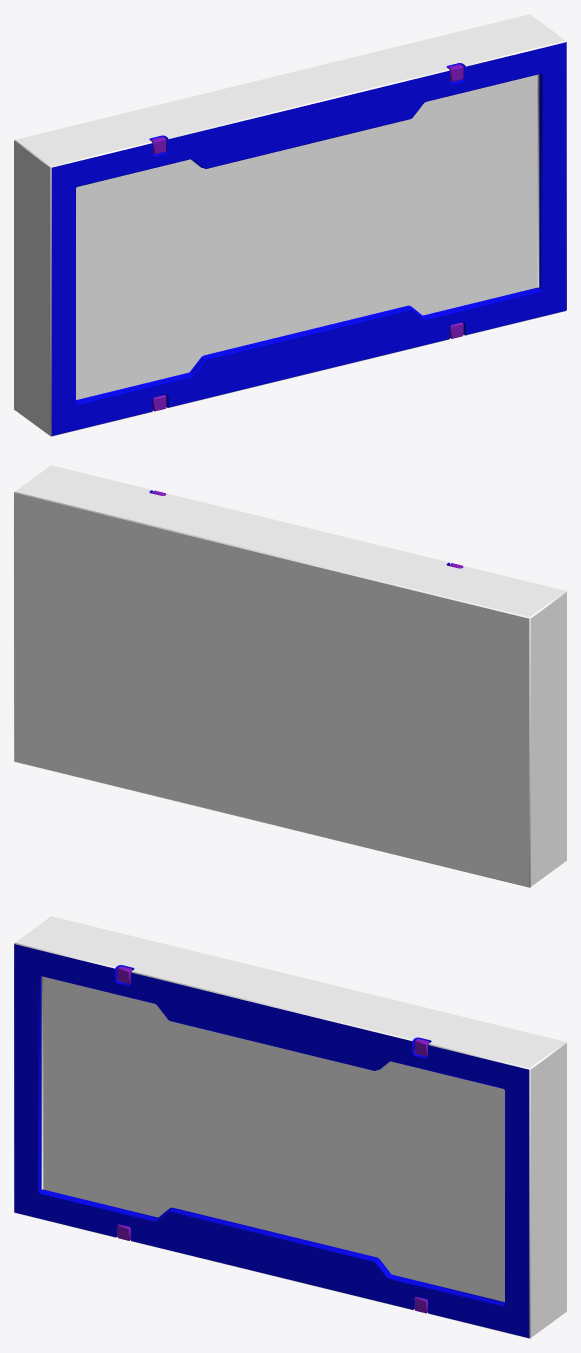
The model's file is Scifi2_WallE2.fbx.
3 renders of one model, top to bottom at view 1: azimuth 30°, elevation 25°; view 2: azimuth 150°, elevation 25°; view 3: azimuth 330°, elevation 25°, orthographic.
Visible parts, largest first — view 1: WallPanelE2; view 2: WallPanelE2; view 3: WallPanelE2.
Boxes of the visible parts, box(x1,y1,x2,y2) form: WallPanelE2: box(14, 14, 566, 436); WallPanelE2: box(14, 465, 566, 887); WallPanelE2: box(14, 916, 566, 1338).
Bounding box in the file's own units: 800 × 400 × 100.
